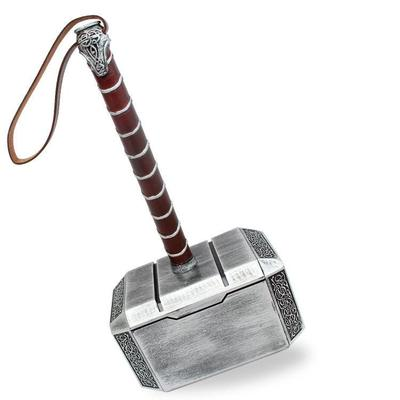THOR Hammer: (68, 21, 316, 379)
